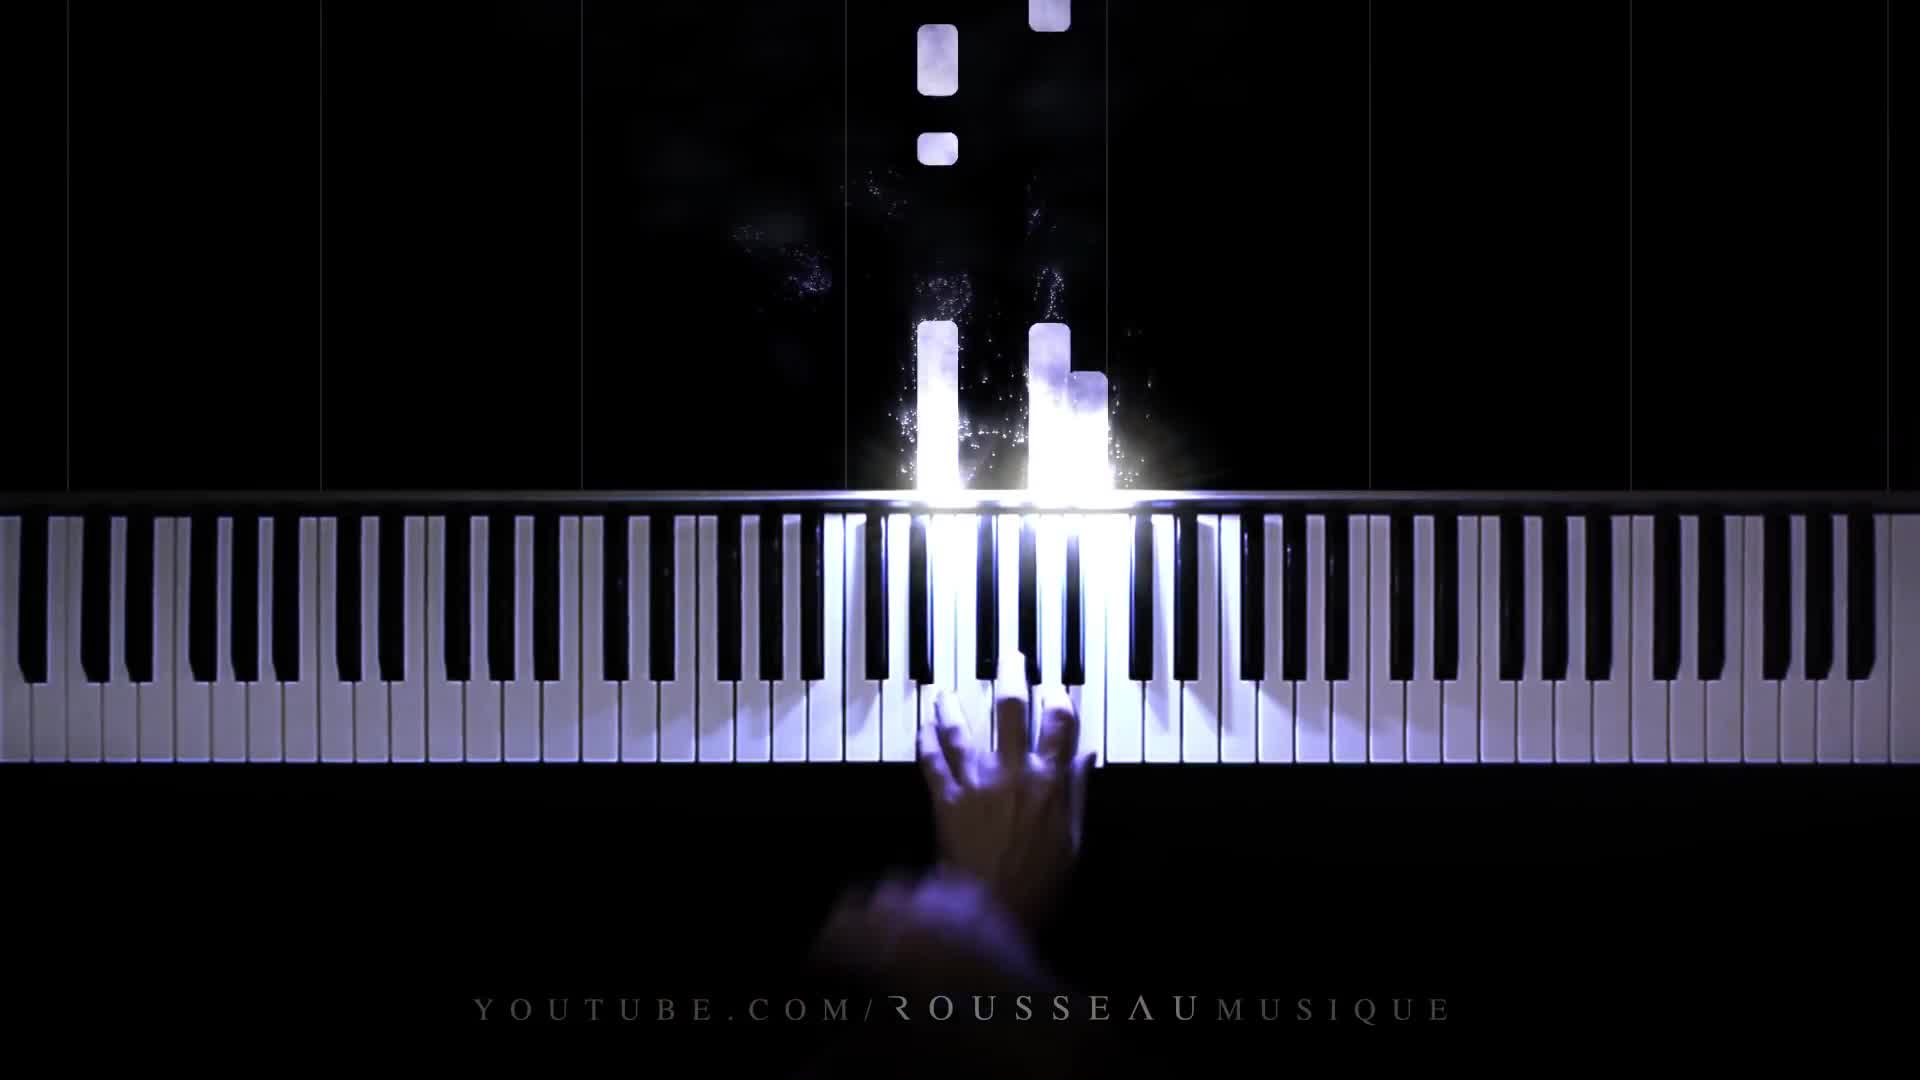left: (910, 647, 1109, 884)
